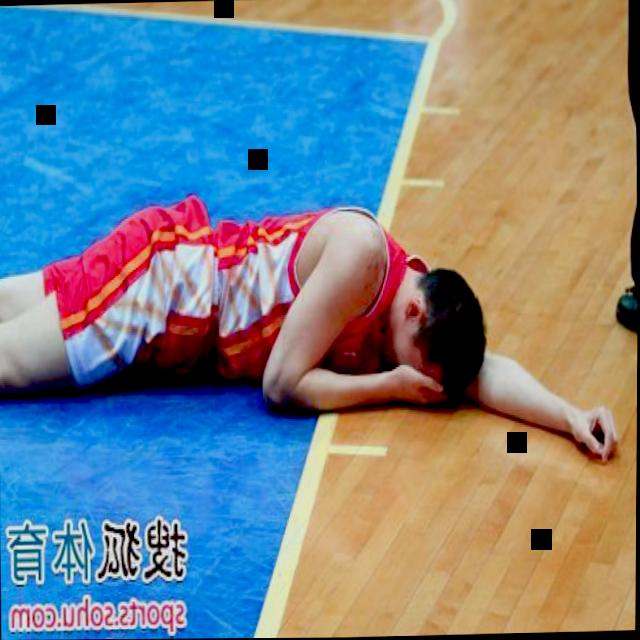Fall-Detected: (5, 175, 619, 451)
